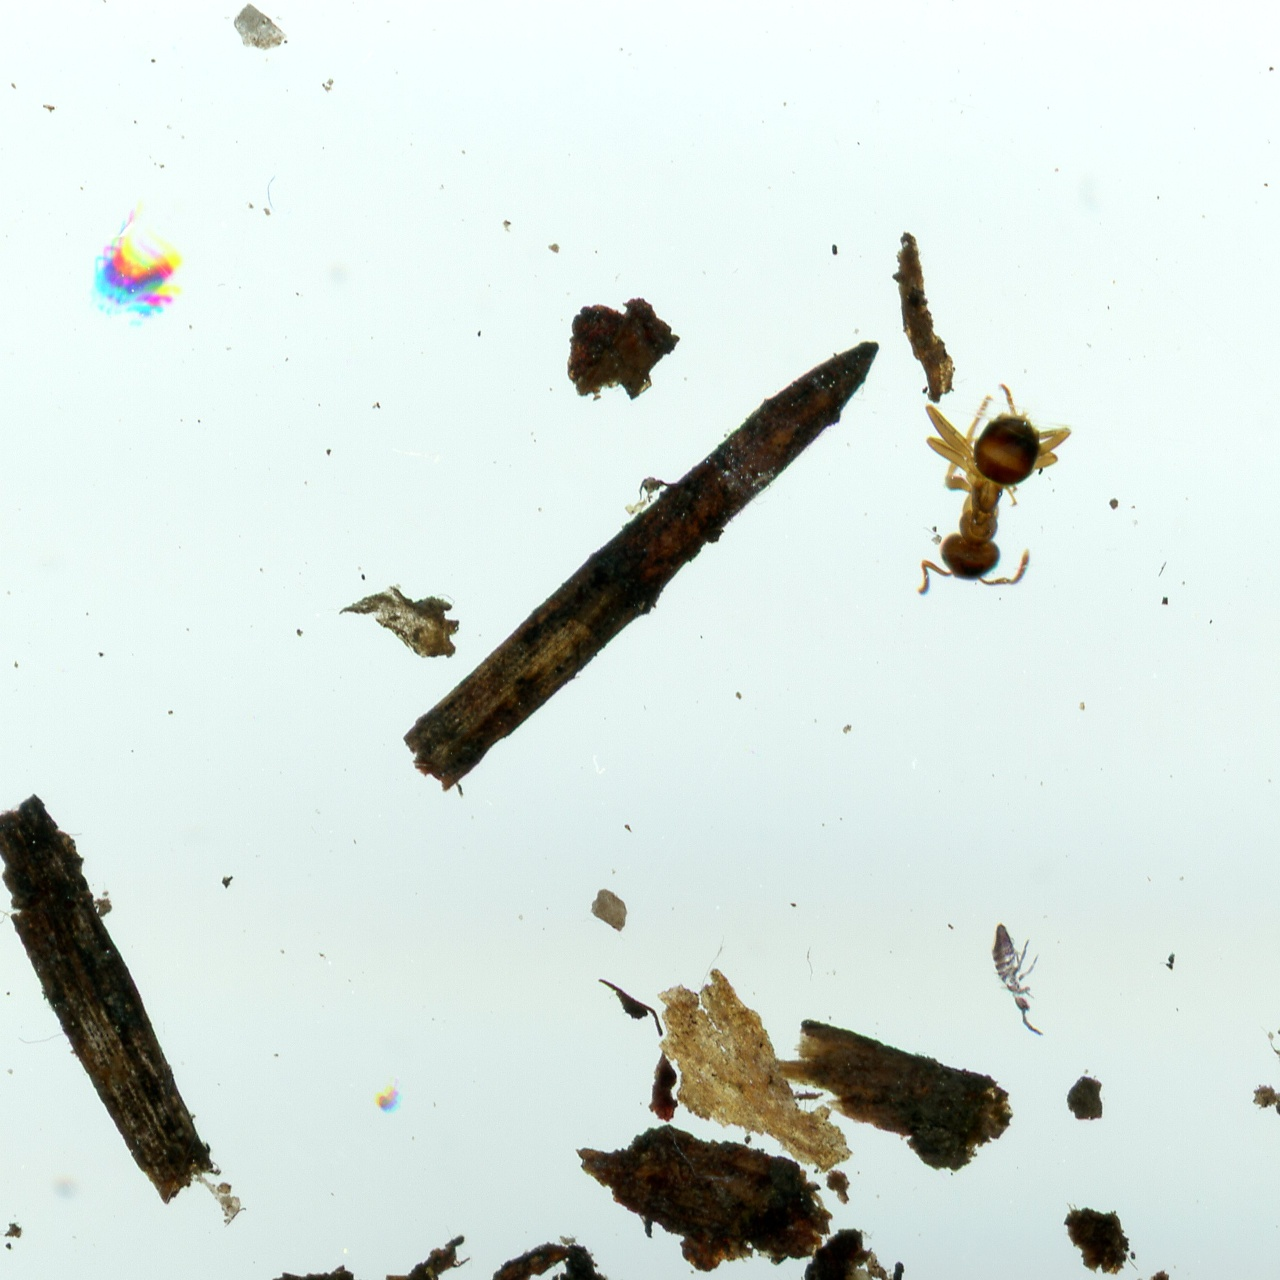arthropod: (912, 382, 1073, 601), (975, 912, 1066, 1046), (93, 206, 183, 321)
